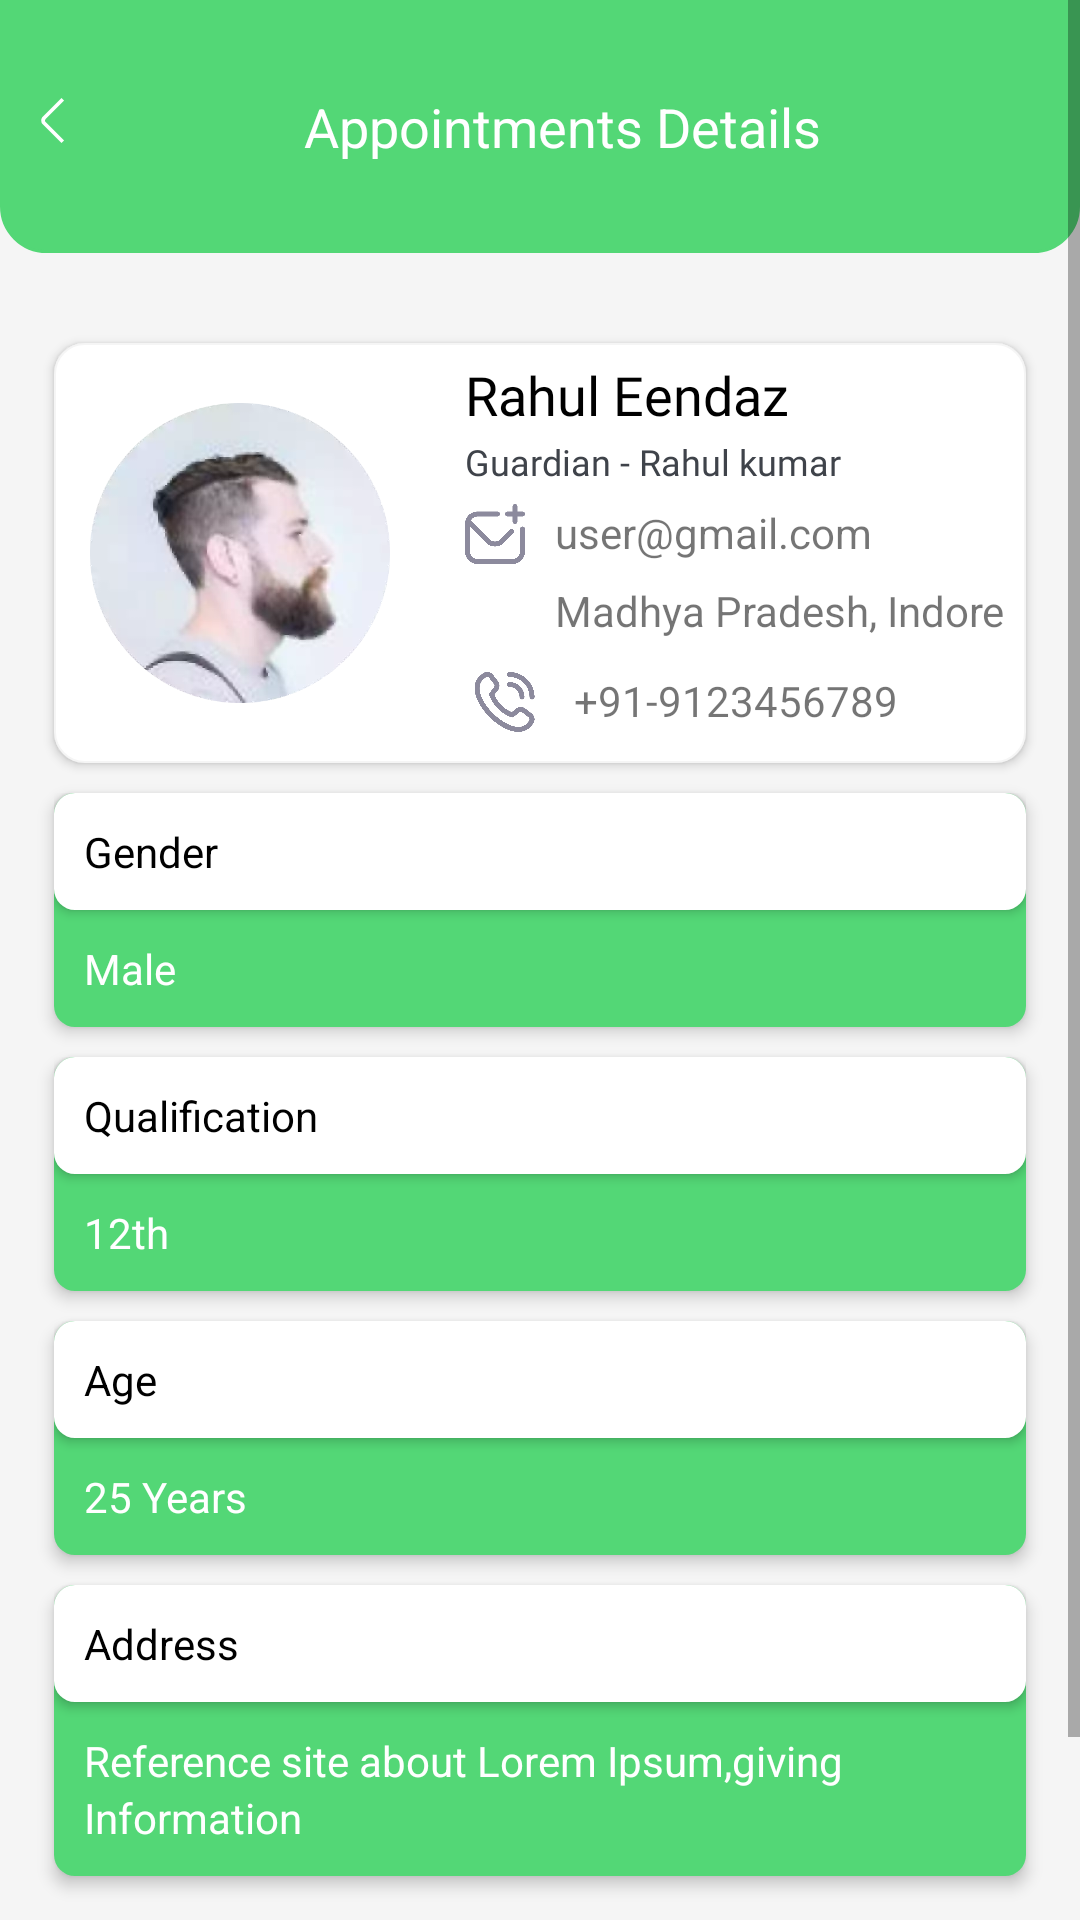

Icons on this 1080w x 1920h Android screen, each with the point to tap as (x=x, y=y):
back: (x=52, y=120)
email: (x=495, y=534)
phone: (x=505, y=702)
photo: (x=239, y=553)
